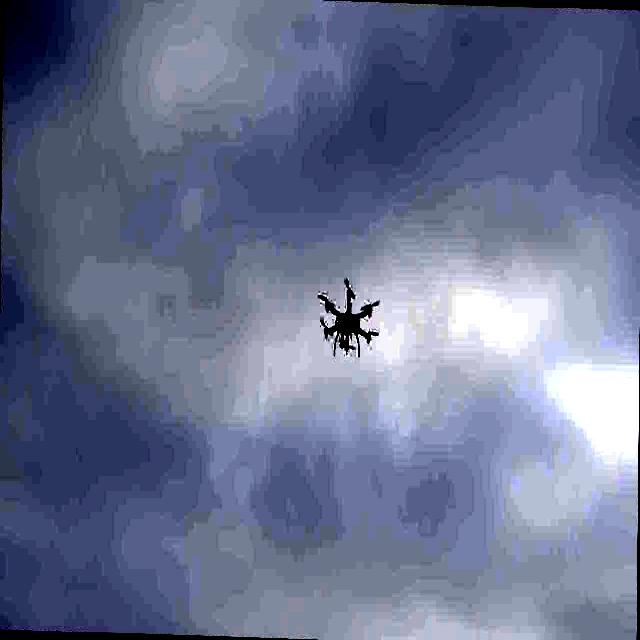drone: (317, 274, 381, 360)
